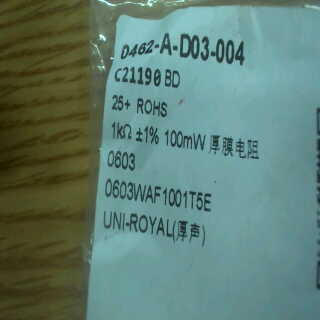1kR: (109, 119, 132, 144)
